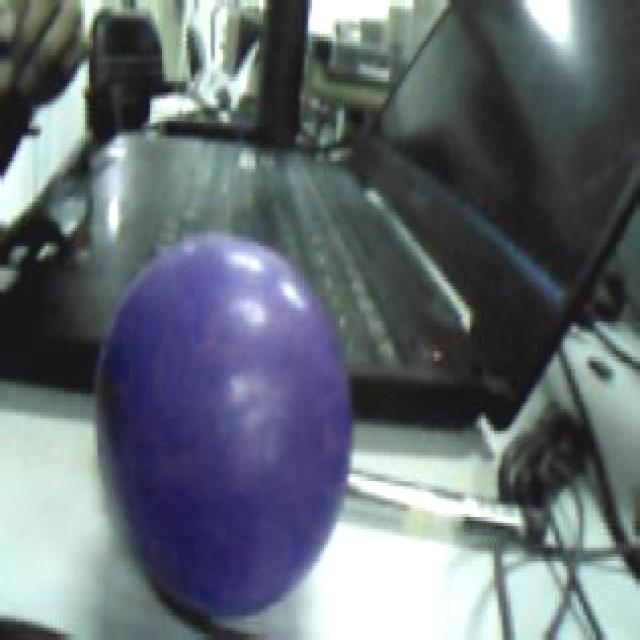BallPurple: (99, 231, 351, 617)
